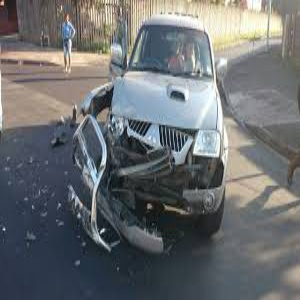bumper: (102, 163, 221, 258)
